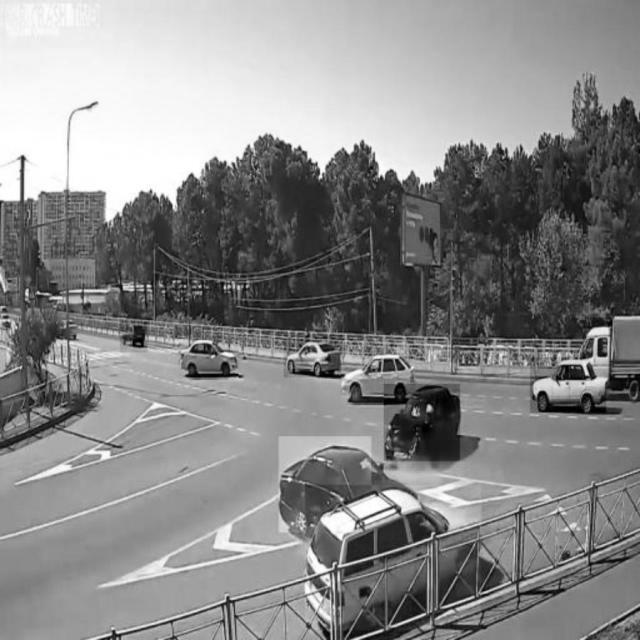vehicle: (305, 485, 481, 629), (279, 437, 371, 533), (384, 384, 460, 461), (530, 358, 606, 413), (583, 318, 640, 391), (342, 354, 415, 404), (284, 336, 344, 378), (179, 339, 239, 379), (120, 322, 147, 352)
